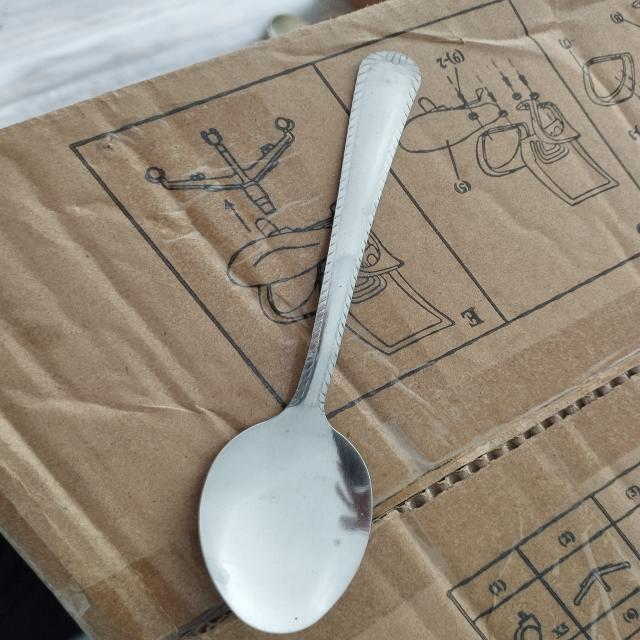Spoon: (147, 47, 508, 640)
